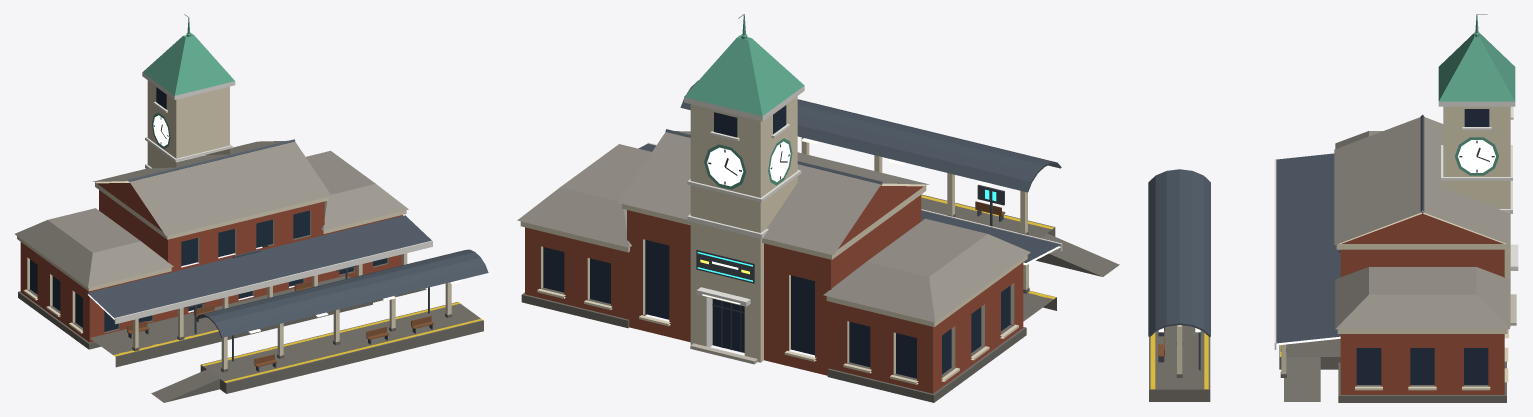
The model's file is train_station.glb.
The picture shows the model from 3 angles, left to right: view 1: azimuth 30°, elevation 25°; view 2: azimuth 150°, elevation 25°; view 3: azimuth 270°, elevation 25°; orthographic projection. The views are drawn at different scales.
Visible parts, largest first — view 1: Body; view 2: Body; view 3: Body.
Boxes of the visible parts, left/top/right/bottom form: Body: left=15, top=14, right=488, bottom=402; Body: left=517, top=14, right=1119, bottom=402; Body: left=1148, top=14, right=1518, bottom=402.
Size of what is drawn, in the model's own units: 28.75 by 21.42 by 24.17.
